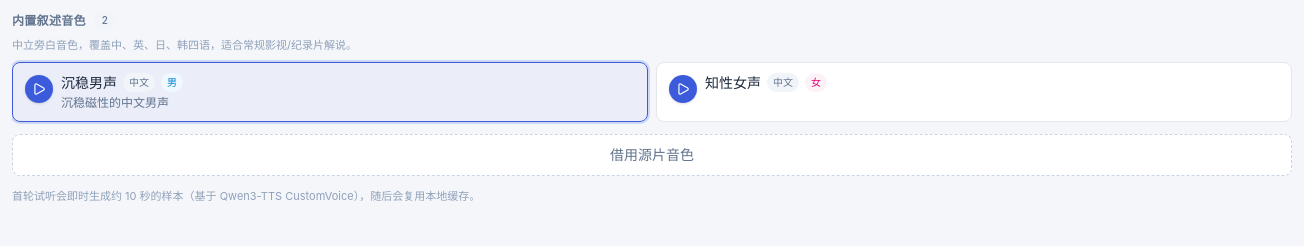
Test case: NarratorVoicePicker.handlePreview › shows an autoplay-blocked message only when play() rejects with NotAllowedError
The image size is (1304, 246).
What coordinates should you click on to do the following:
click the 1st button named "试听"
I would click on:
 (39, 89)
Its box is [25,75,53,103].
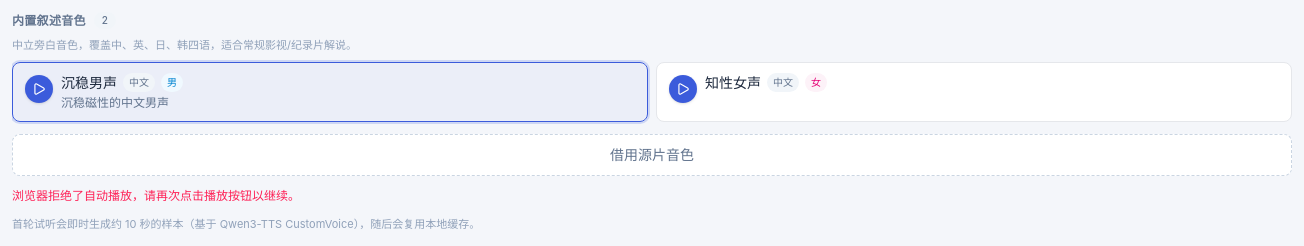
Now the message shows "浏览器拒绝了自动播放", box [12,188,300,203]
